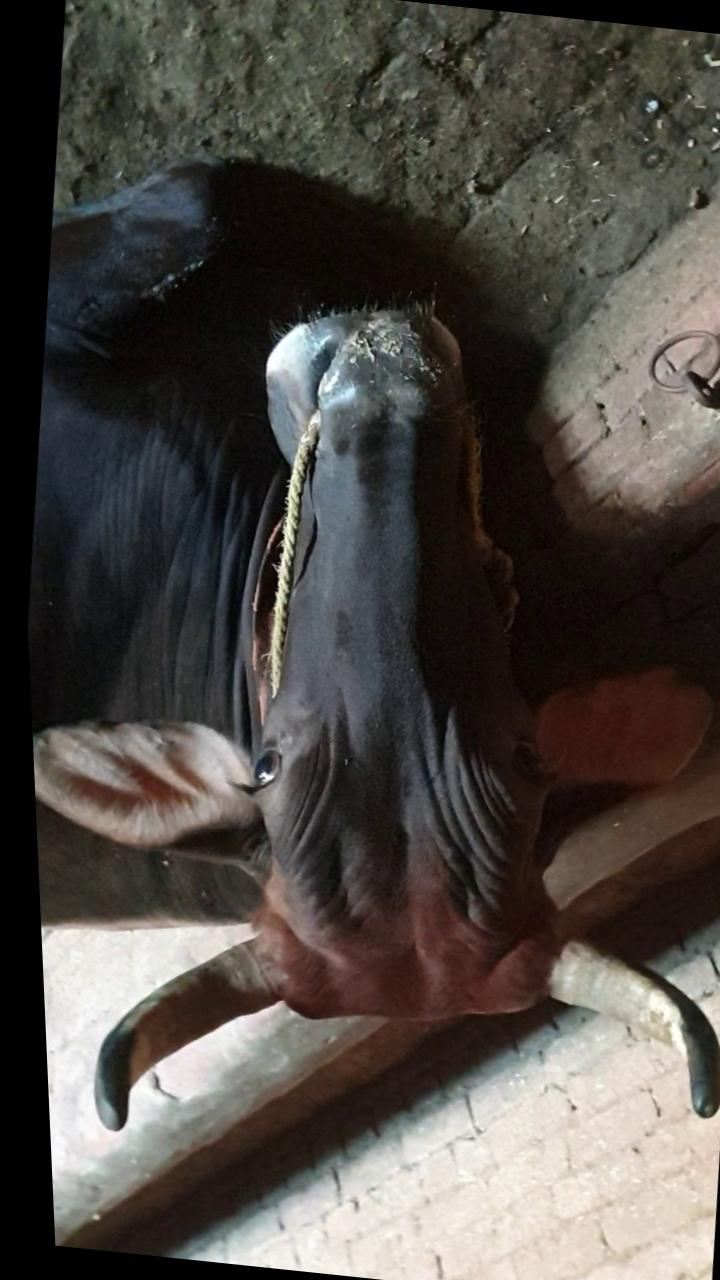cows: (174, 284, 609, 1066)
